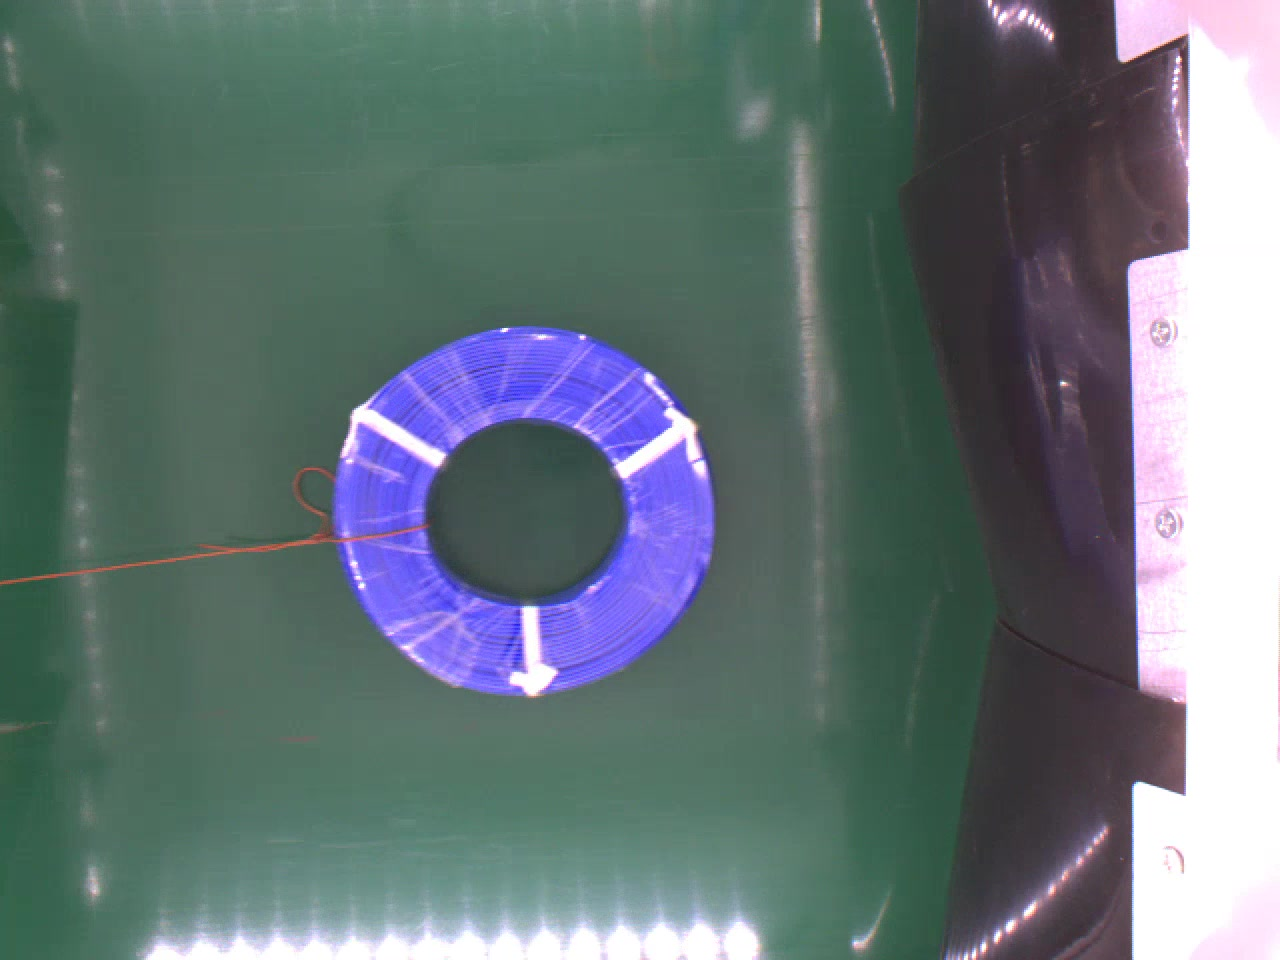blue: (333, 321, 718, 692)
